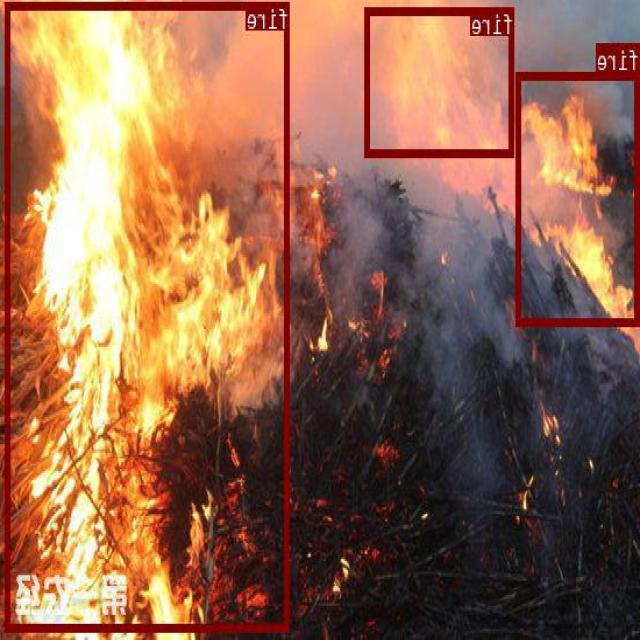fire: (7, 1, 290, 630), (517, 71, 640, 324), (366, 6, 515, 156)
